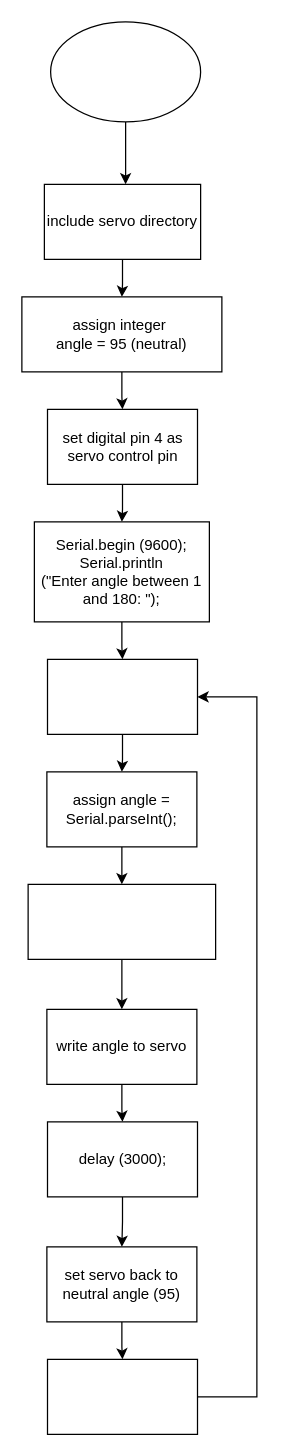
Image size: 289x1456. Some labels were removed from this diagram. Each missing label, with the centre of its shape:
delay (1000);: (122,1396)
Serial.print ("Received: "); Serial.println (angle);: (121,921)
Start: (125,71)
while loop (Serial.available () != 0): (122,696)
